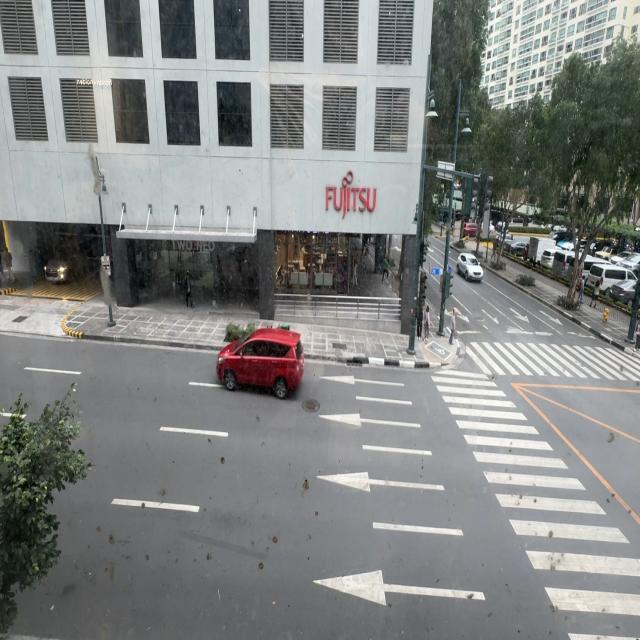pedestrain: (184, 271, 194, 308), (590, 278, 602, 308), (575, 274, 584, 305)
waiting: (448, 306, 458, 346), (423, 305, 431, 342), (416, 302, 423, 341)
